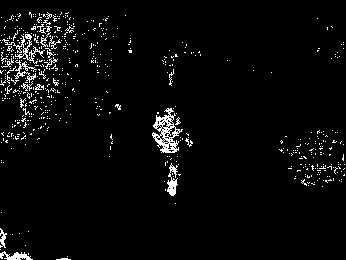person: (149, 105, 192, 202)
